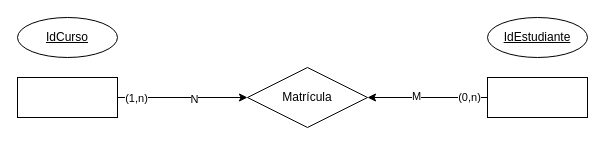
The diagram is 605 pixels wide and 145 high, and some of its shapes have lost their labels. Each missing label, with the centre of its shape:
Curso: point 67,97
Estudiante: point 537,97
